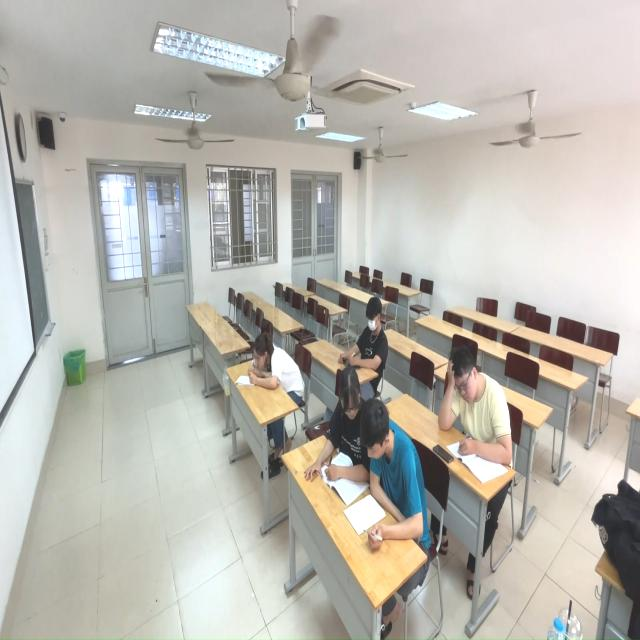read: (357, 389, 436, 552), (433, 334, 520, 471), (308, 359, 381, 484), (243, 303, 302, 399), (338, 291, 394, 375)
